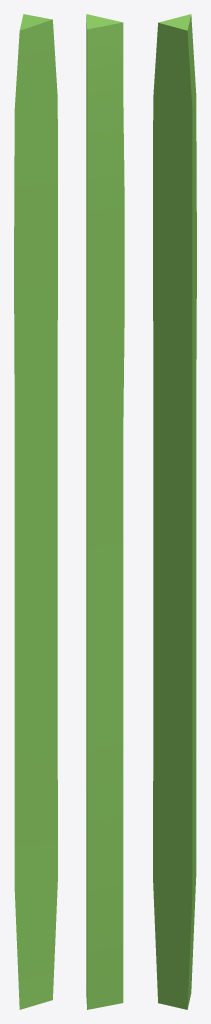
Rendered from lianas_E.fbx.
3 views of the same model, side by side, from view 1: azimuth 90°, elevation 25°; view 2: azimuth 210°, elevation 25°; view 3: azimuth 270°, elevation 25° (orthographic).
Parts seen in each view (by area): view 1: liana_E_thick; view 2: liana_E_thick; view 3: liana_E_thick.
Boxes of the visible parts, left/top/right/bottom form: liana_E_thick: left=14, top=14, right=57, bottom=1009; liana_E_thick: left=86, top=14, right=124, bottom=1009; liana_E_thick: left=153, top=14, right=196, bottom=1009.
Size of the model in its own units: 2.92 by 74.68 by 3.02.
